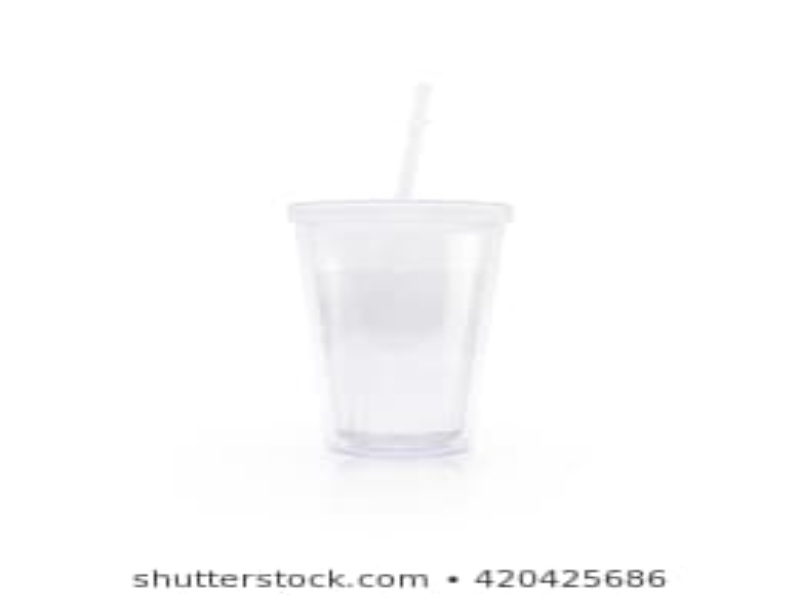plastic-cup: (282, 195, 518, 463)
straw: (396, 84, 433, 214)
